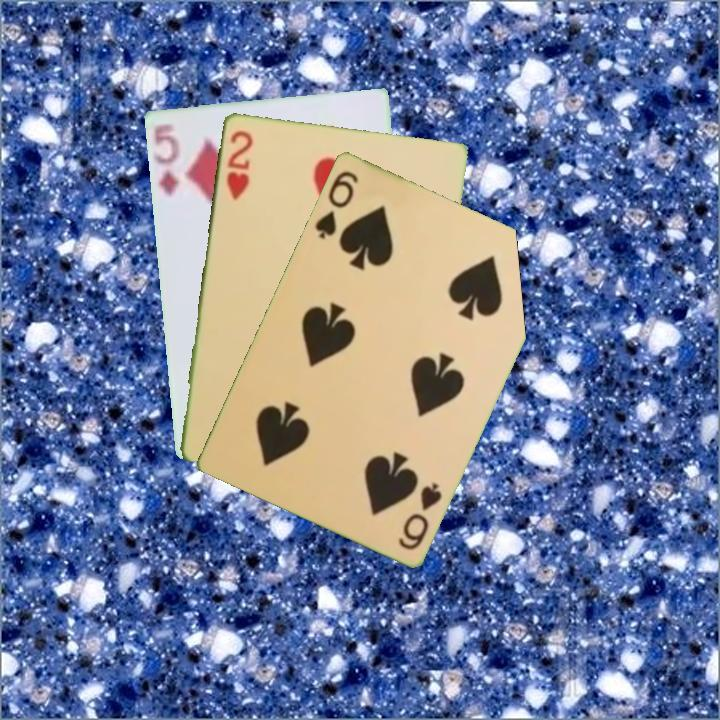2h: (222, 126, 256, 203)
5d: (150, 119, 182, 199)
6s: (310, 166, 361, 242), (394, 478, 445, 552)
